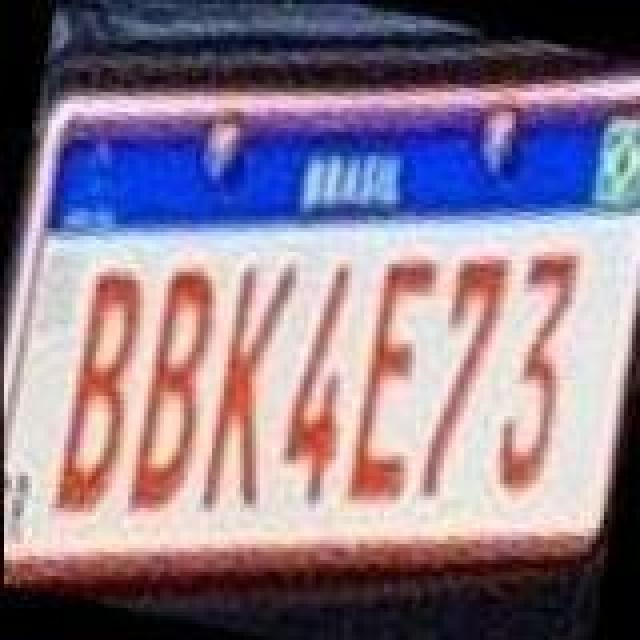3: (484, 242, 592, 502)
4: (268, 250, 376, 506)
7: (408, 248, 516, 508)
B: (42, 262, 154, 522), (120, 262, 228, 526)
E: (338, 246, 450, 510)
K: (196, 254, 304, 518)
